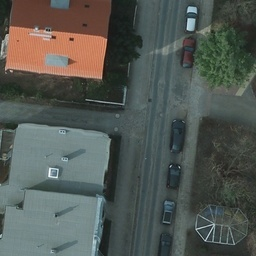car: (168, 120, 184, 156), (183, 4, 199, 38), (180, 36, 196, 69), (158, 228, 174, 256), (165, 164, 181, 192), (160, 198, 175, 225)
